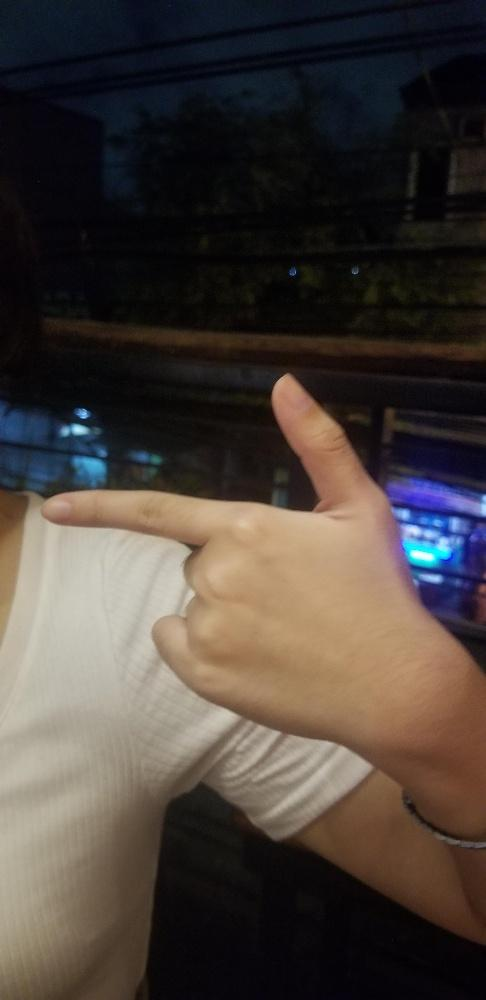g: (42, 371, 404, 742)
